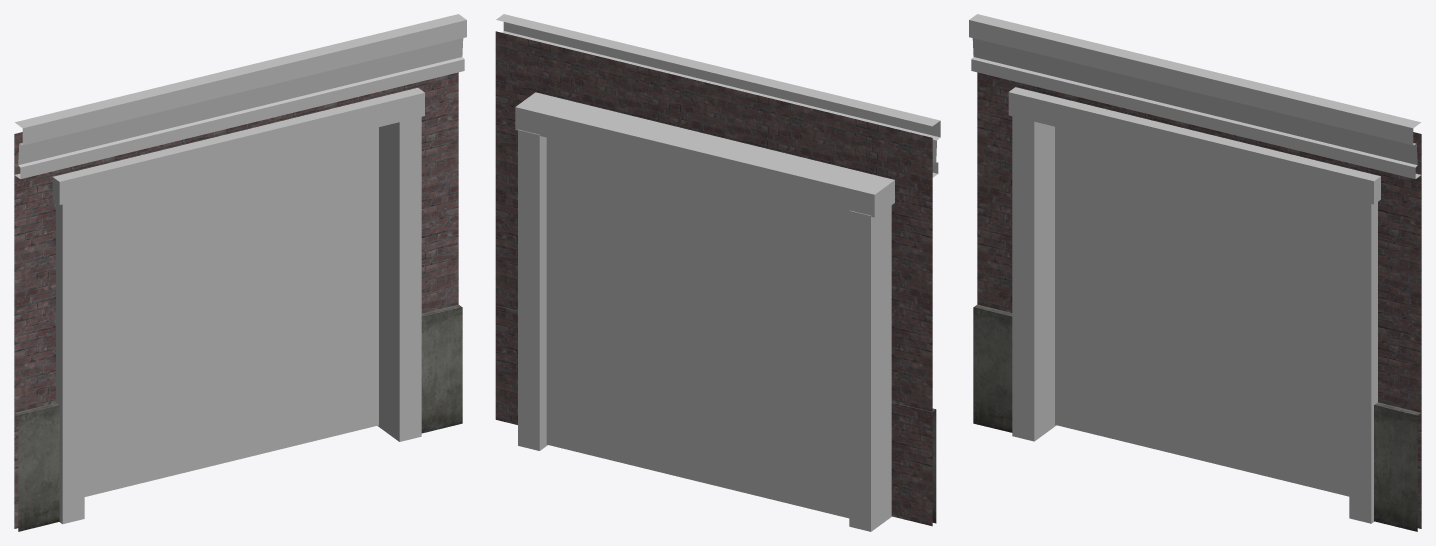
File: Wall_C_Brick_DoorRoll_A_4x.FBX
3 views of the same model, side by side, from view 1: azimuth 30°, elevation 25°; view 2: azimuth 150°, elevation 25°; view 3: azimuth 330°, elevation 25° (orthographic).
Parts seen in each view (by area): view 1: Wall_C_Brick_DoorRoll_A_4x; view 2: Wall_C_Brick_DoorRoll_A_4x; view 3: Wall_C_Brick_DoorRoll_A_4x.
Boxes of the visible parts, x1,y1,x2,y2 form: Wall_C_Brick_DoorRoll_A_4x: (14,14,466,531); Wall_C_Brick_DoorRoll_A_4x: (495,14,940,531); Wall_C_Brick_DoorRoll_A_4x: (969,14,1421,531).
Bounding box in the file's own units: 400 × 350 × 45.4.
